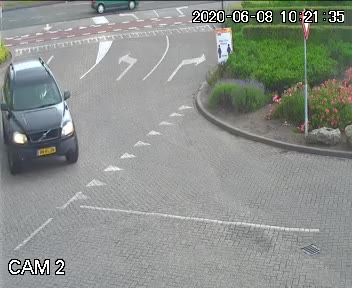car: (0, 48, 112, 187)
